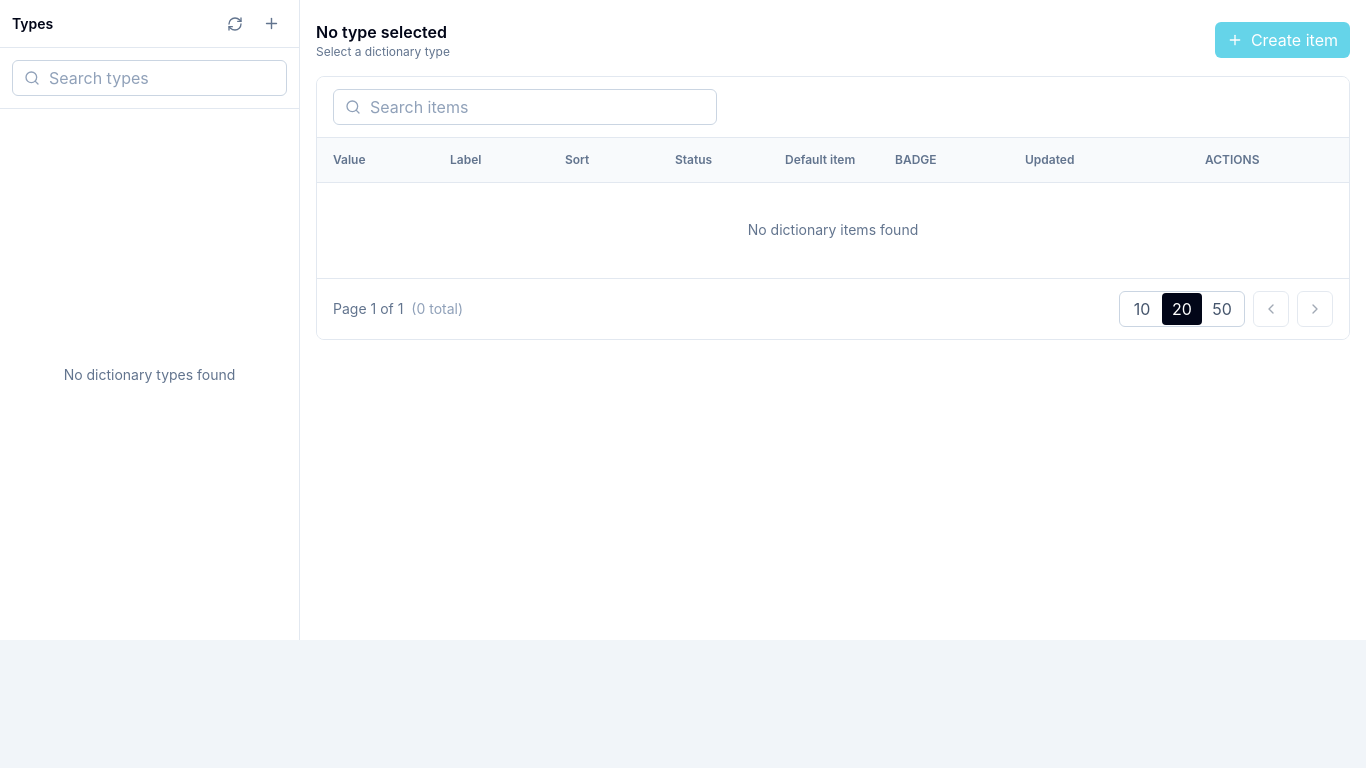
DictionariesPage › validates required dictionary type fields
Expected: the text "No dictionary types found" is shown, [64,366,235,382]
Step 1. Click the button named "Create type" → [271, 24], box [255,8,287,40]
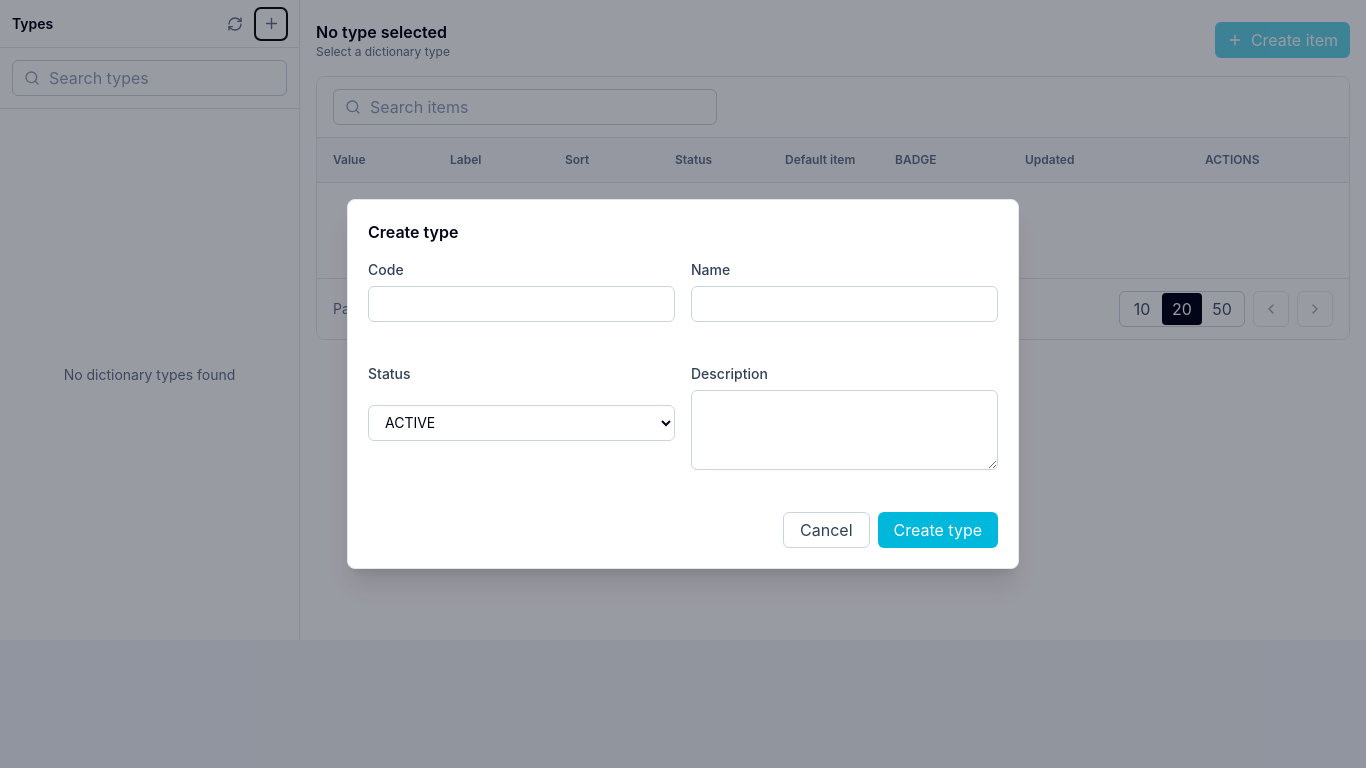
Step 2. Click the button "Create type" → [938, 530], box [878,512,998,548]
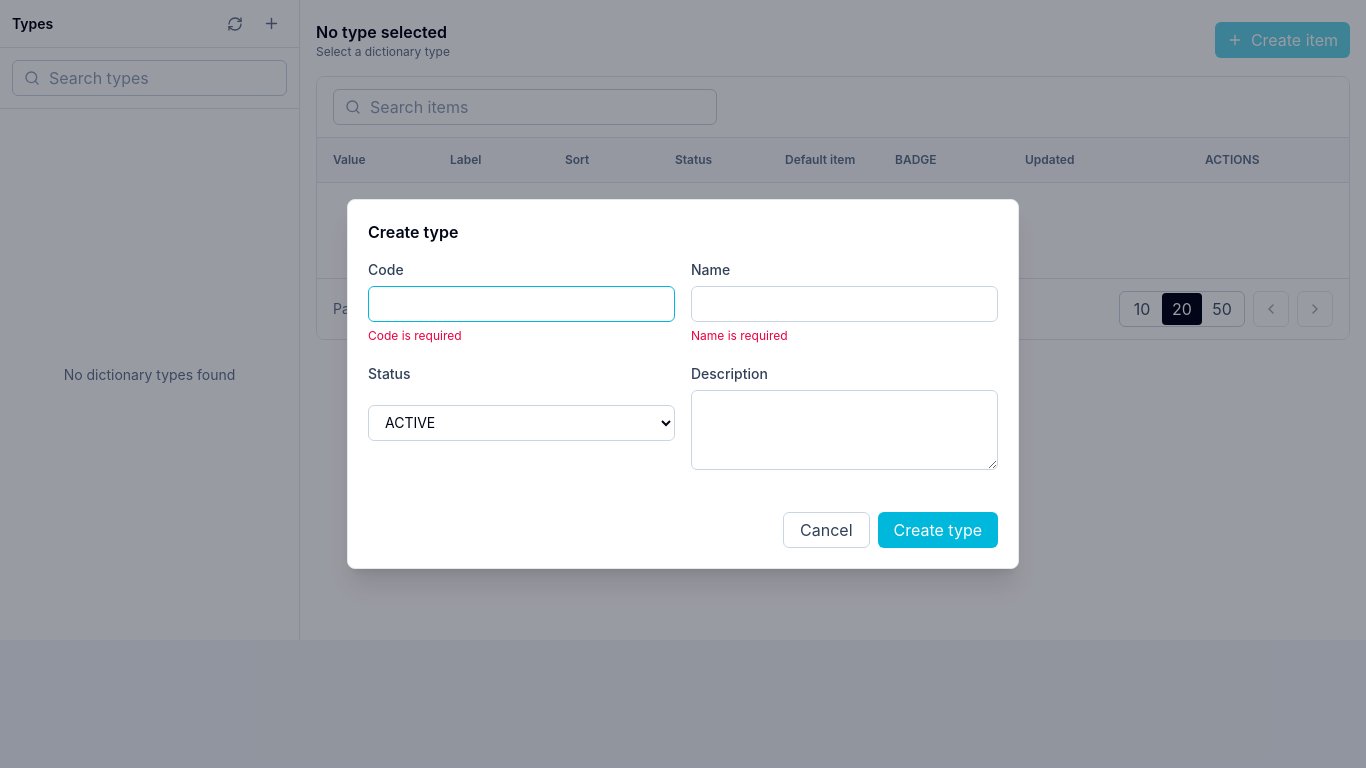
Expected: the text "Code is required" is shown, [368,328,462,343]
Expected: the text "Name is required" is shown, [691,328,788,343]
